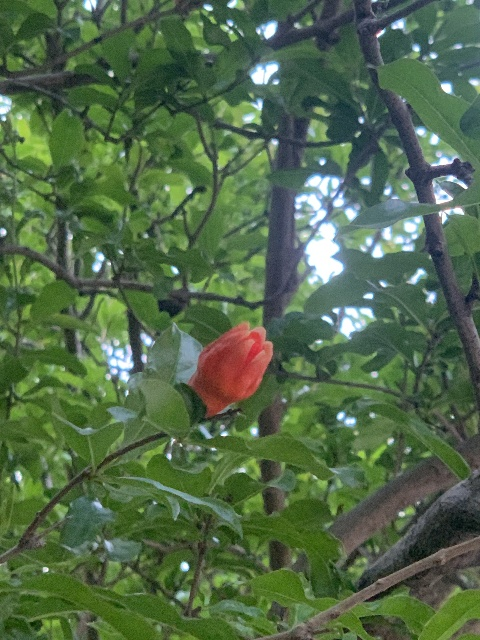flower: (186, 321, 274, 417)
